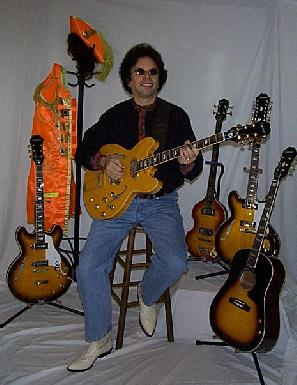guitar: (208, 147, 296, 356)
